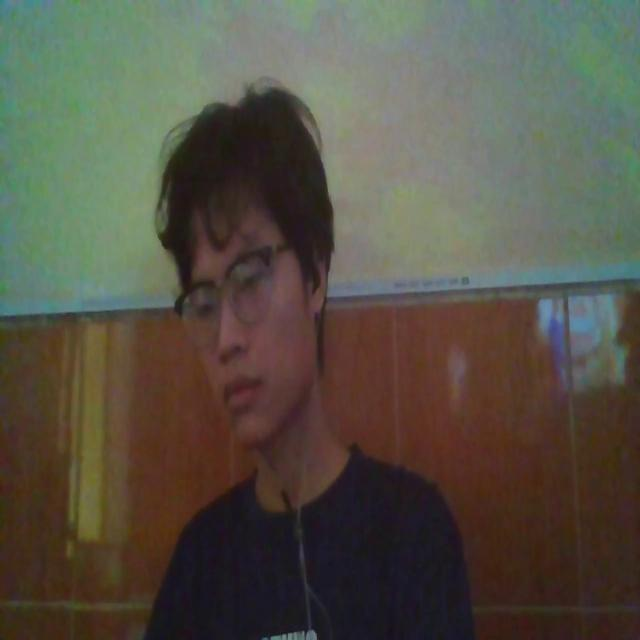student: (121, 70, 477, 640)
